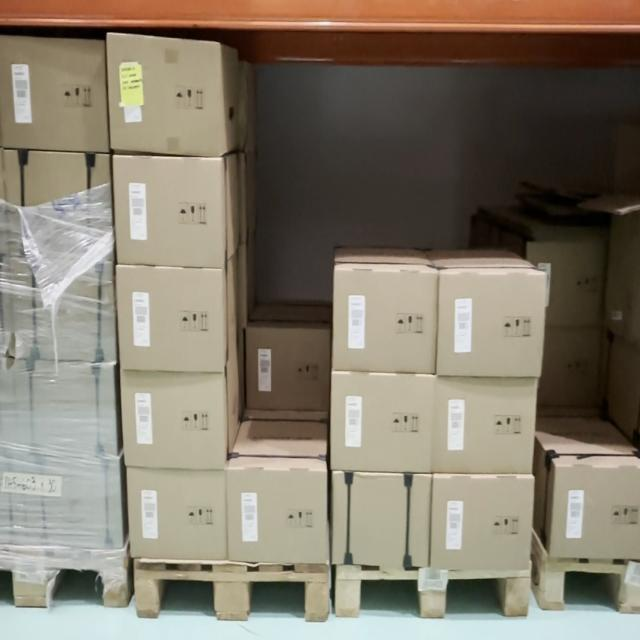box: (107, 35, 226, 156), (0, 34, 108, 151), (5, 150, 113, 263), (117, 158, 223, 267), (120, 268, 223, 372), (10, 259, 116, 360), (440, 273, 540, 375), (336, 268, 434, 372), (13, 359, 117, 457), (125, 373, 223, 470), (17, 457, 122, 547), (332, 376, 434, 468), (227, 470, 326, 562), (436, 377, 530, 473), (434, 479, 529, 572), (130, 469, 227, 560), (334, 475, 428, 568), (550, 466, 640, 559), (247, 332, 331, 407)
